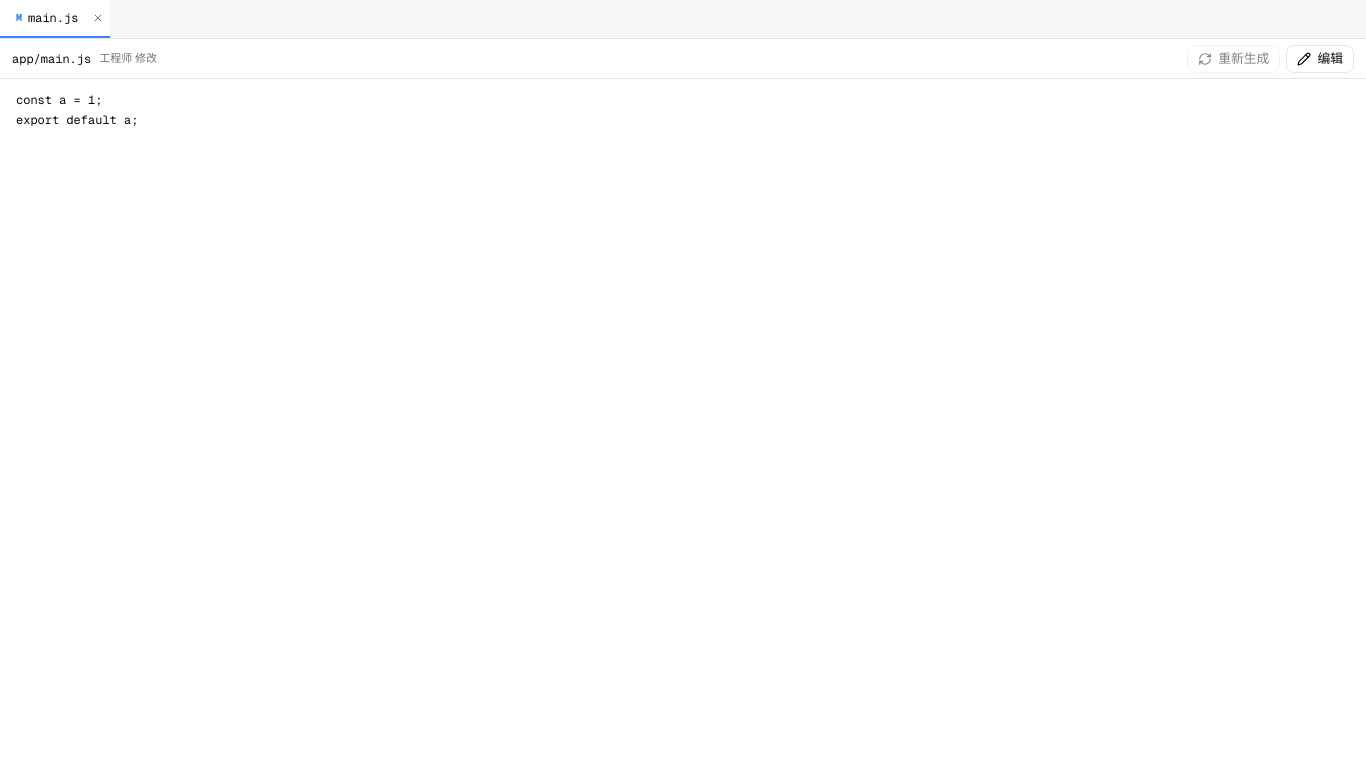
Test: 查看器编辑态（软锁 / 保存 / 冲突） › 409 后选择「用 agent 的版本」：放弃草稿退出编辑，软锁释放
# 快照已就绪（fileId 可用）才可进入编辑
Click the button with aria-label "编辑文件".
click(1320, 58)  # box [1286, 44, 1354, 72]
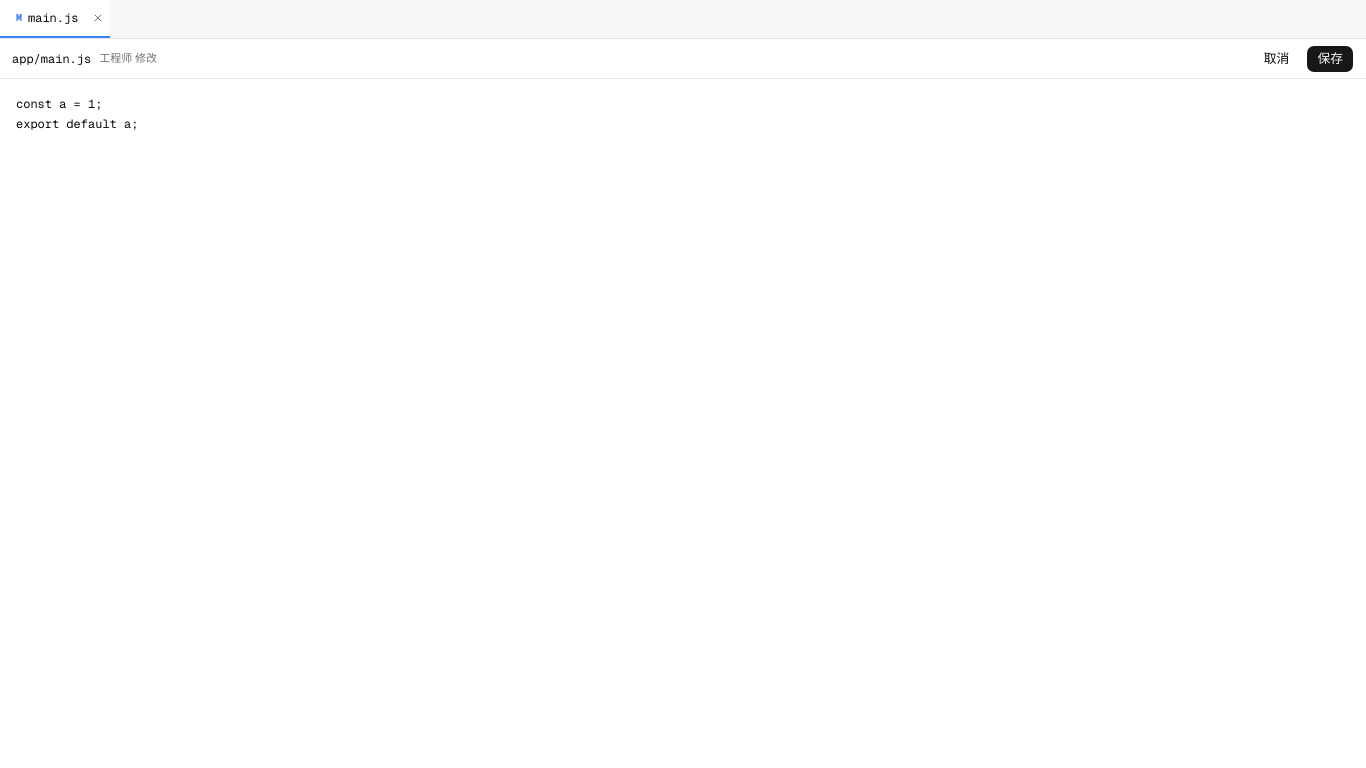
Replace the text in the text box named "编辑 app/main.js" with "我的修改" at (683, 114), box [0, 79, 1365, 150]
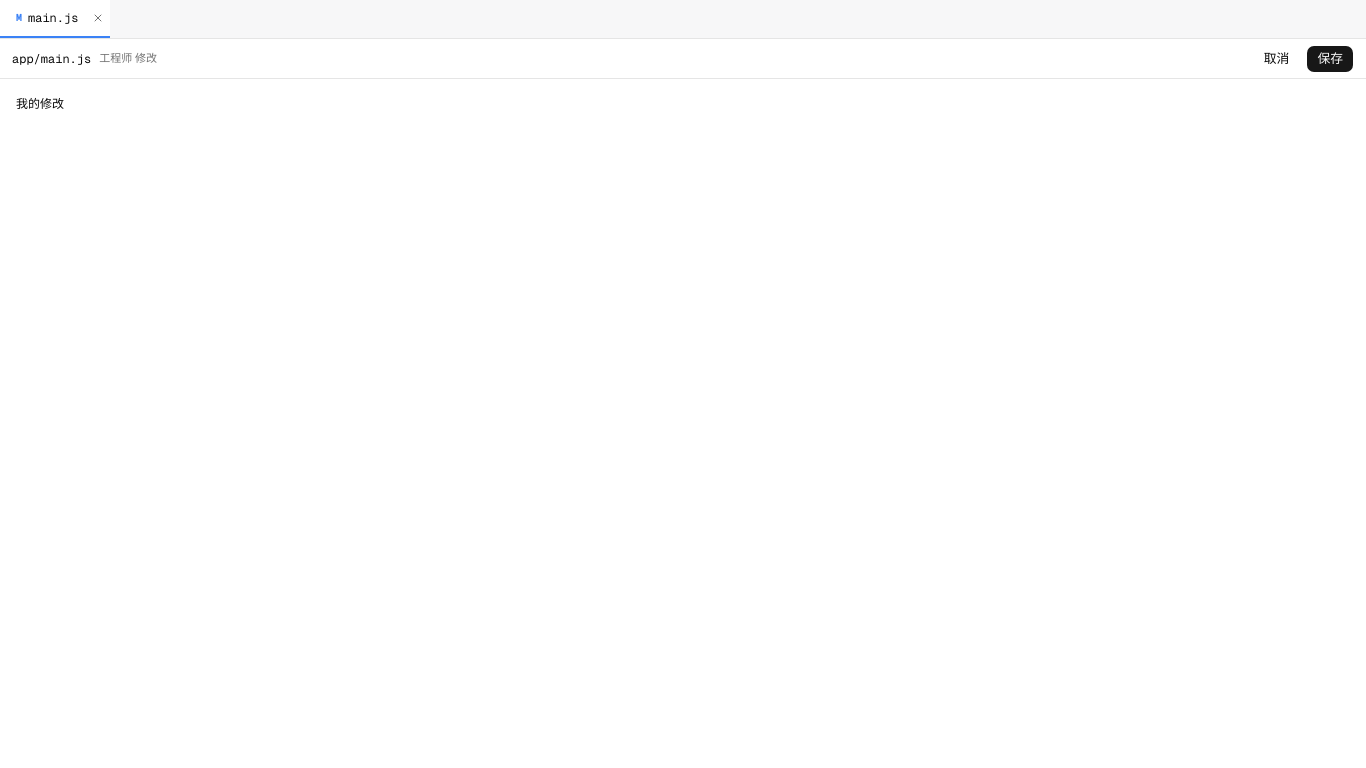
Click the button with aria-label "保存修改".
click(1330, 58)  # box [1306, 44, 1354, 72]
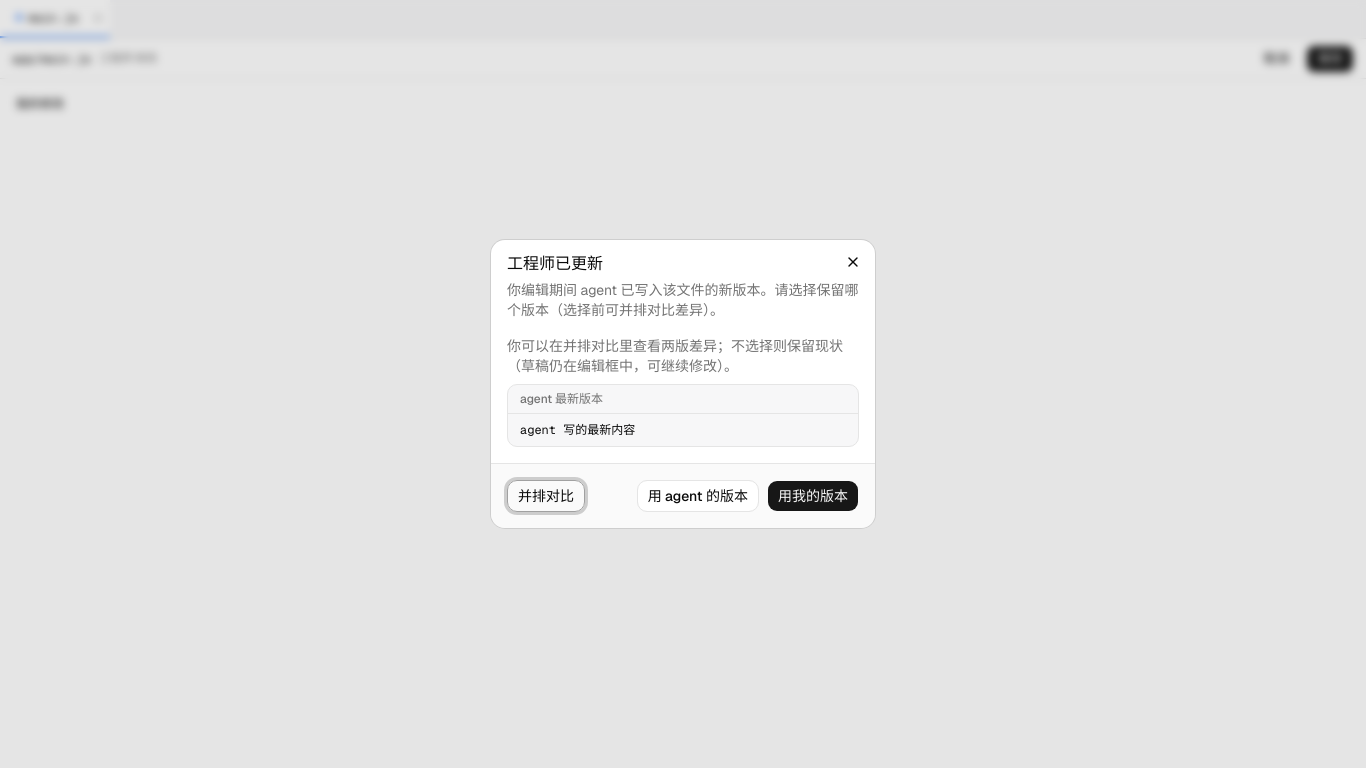
Now the heading "工程师已更新" is shown, box [507, 253, 603, 274]
Click the button "用 agent 的版本".
click(698, 496)  # box [637, 480, 759, 512]
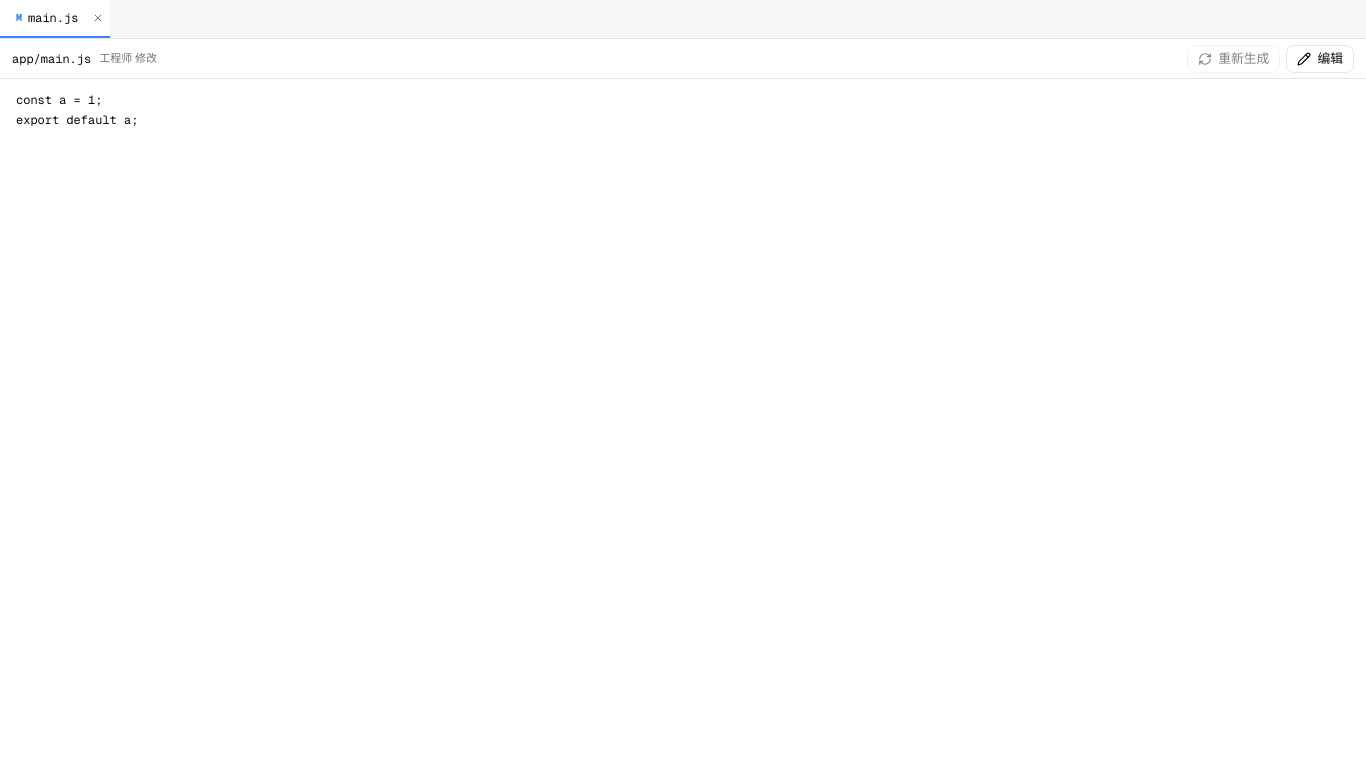
Now the heading "工程师已更新" is gone
